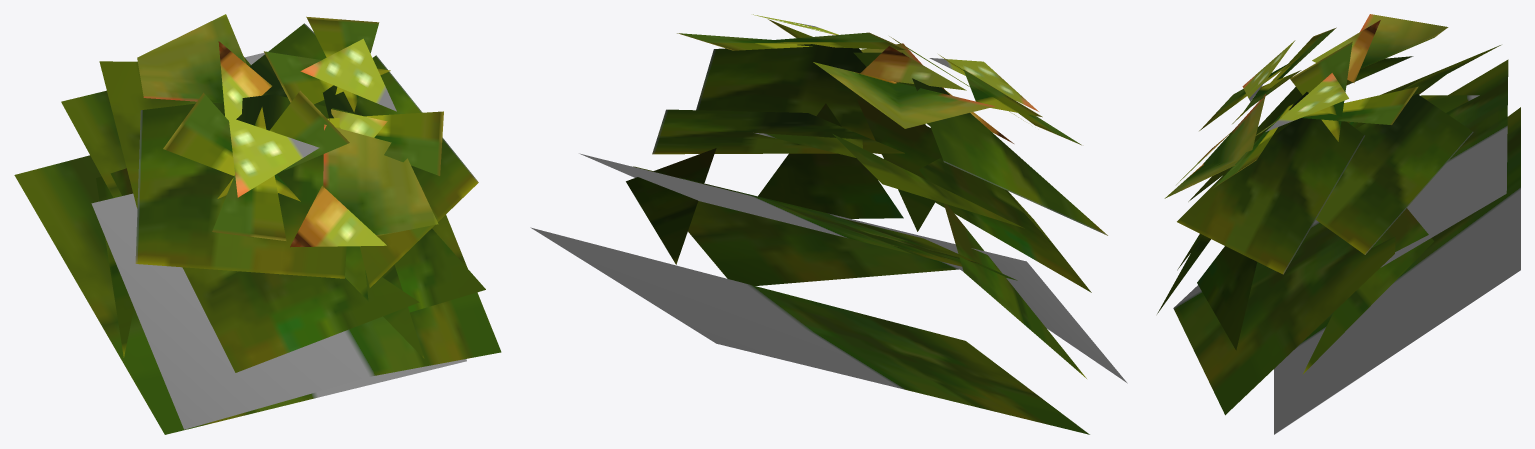
File: fg_bushA_2.dae
3 renders of one model, left to right at view 1: azimuth 30°, elevation 25°; view 2: azimuth 150°, elevation 25°; view 3: azimuth 270°, elevation 25°, orthographic. The views are drawn at different scales.
Visible parts, largest first — view 1: fg_bushA_2; view 2: fg_bushA_2; view 3: fg_bushA_2.
Part boxes in pixels (x1,y1,x2,y2): fg_bushA_2: (14,14,501,434); fg_bushA_2: (530,14,1127,434); fg_bushA_2: (1157,14,1520,434).
Size of the model in its own units: 42.31 by 37.65 by 38.65.
Materials: 1 (1 with a texture image).
